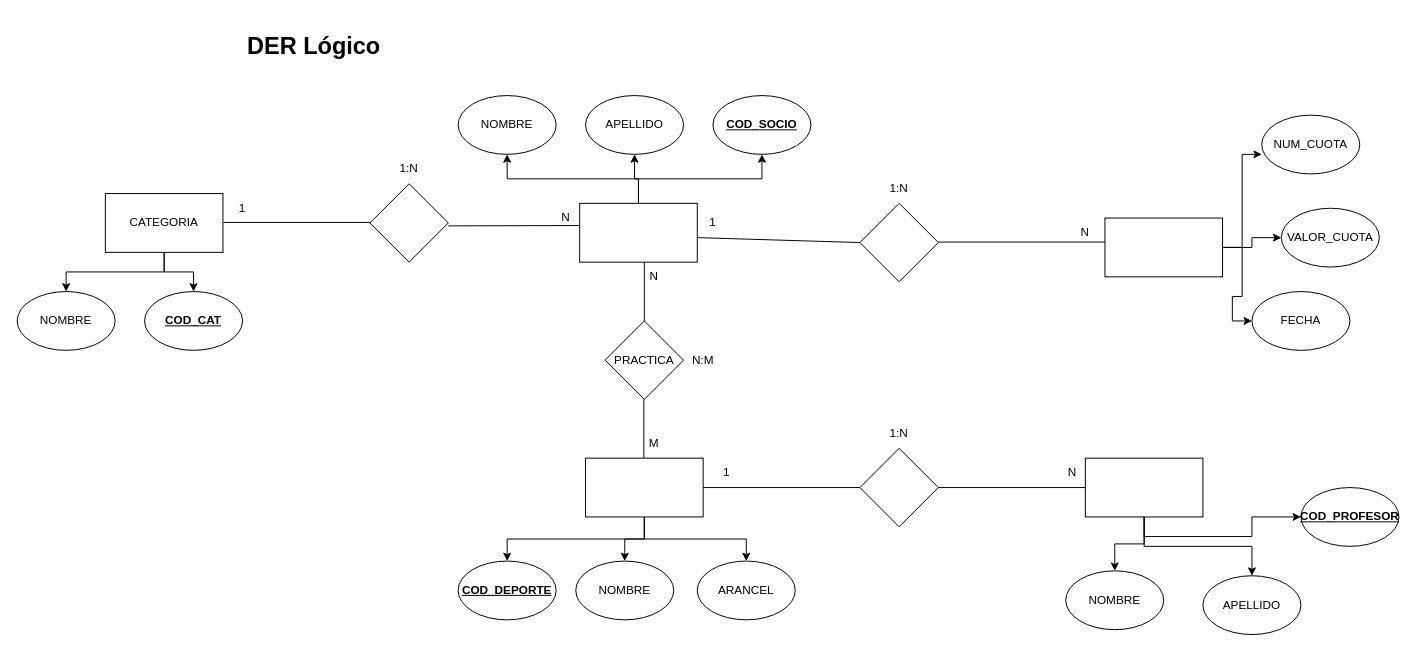
This 1416x652 diagram has some shape labels left out. Each missing label, with the centre of its shape:
CUOTA: the point at 1163,247
DEPORTE: the point at 644,487
PERTENECE: the point at 408,222
PROFESOR: the point at 1143,487
SOCIO: the point at 638,232
